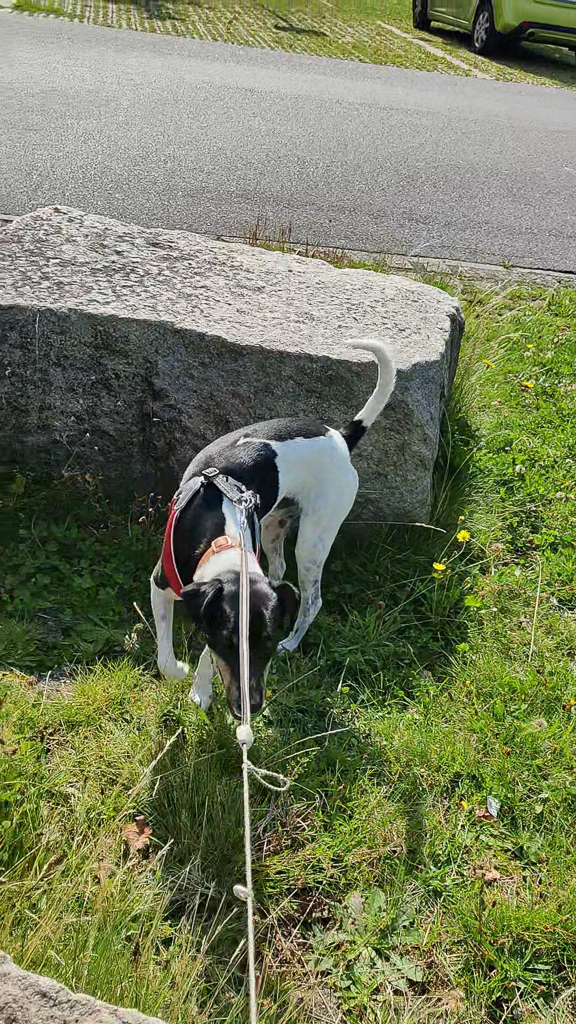Dog: (134, 322, 430, 755)
